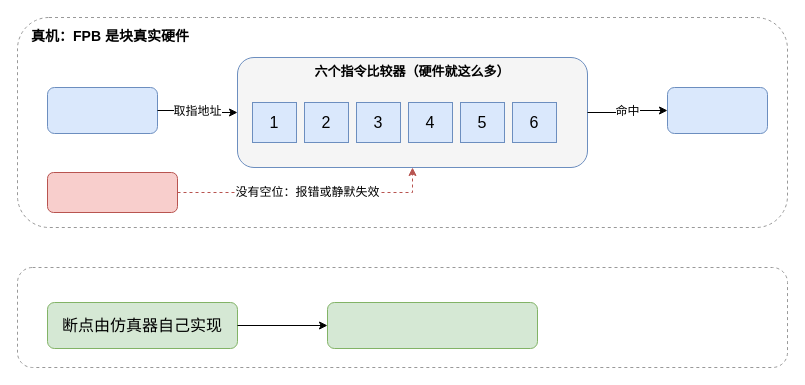
The diagram is 805 pixels wide and 385 high, and some of its shapes have lost their labels. Here are the shapes that lost their labels. From the top down, the box of each, then its label:
(46, 86, 158, 134): Flash 取指
(666, 86, 768, 134): CPU 停机
(46, 172, 178, 212): 第 7 个断点
(16, 266, 788, 368): Renode：仿真器拦截
(326, 302, 538, 348): 不占 FPB，实测八个全过
